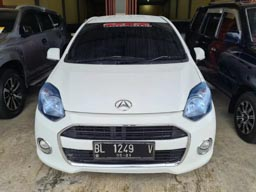plat: (94, 143, 154, 153)
